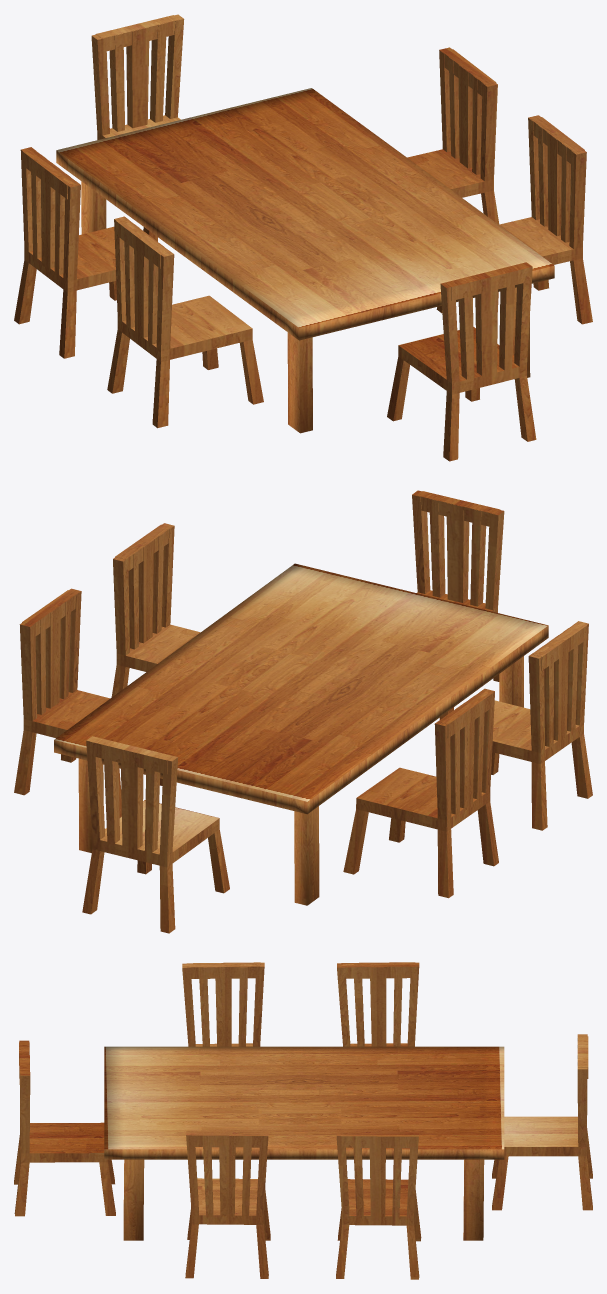
The model's file is calssic_orenge_dinner.glb.
3 views of the same model, one above another, from view 1: azimuth 30°, elevation 25°; view 2: azimuth 150°, elevation 25°; view 3: azimuth 270°, elevation 25° (orthographic). The views are drawn at different scales.
Parts seen in each view (by area): view 1: Object_3, Object_2; view 2: Object_3, Object_2; view 3: Object_3, Object_2.
Part boxes in pixels (bbox=[...]): Object_3: bbox=[56, 88, 554, 433]; Object_2: bbox=[14, 14, 592, 461]; Object_3: bbox=[54, 563, 548, 905]; Object_2: bbox=[14, 490, 592, 933]; Object_3: bbox=[104, 1046, 504, 1240]; Object_2: bbox=[14, 962, 592, 1279].
Size of the model in its own units: 8.51 by 3.27 by 11.77.
1 material, 1 textured.
